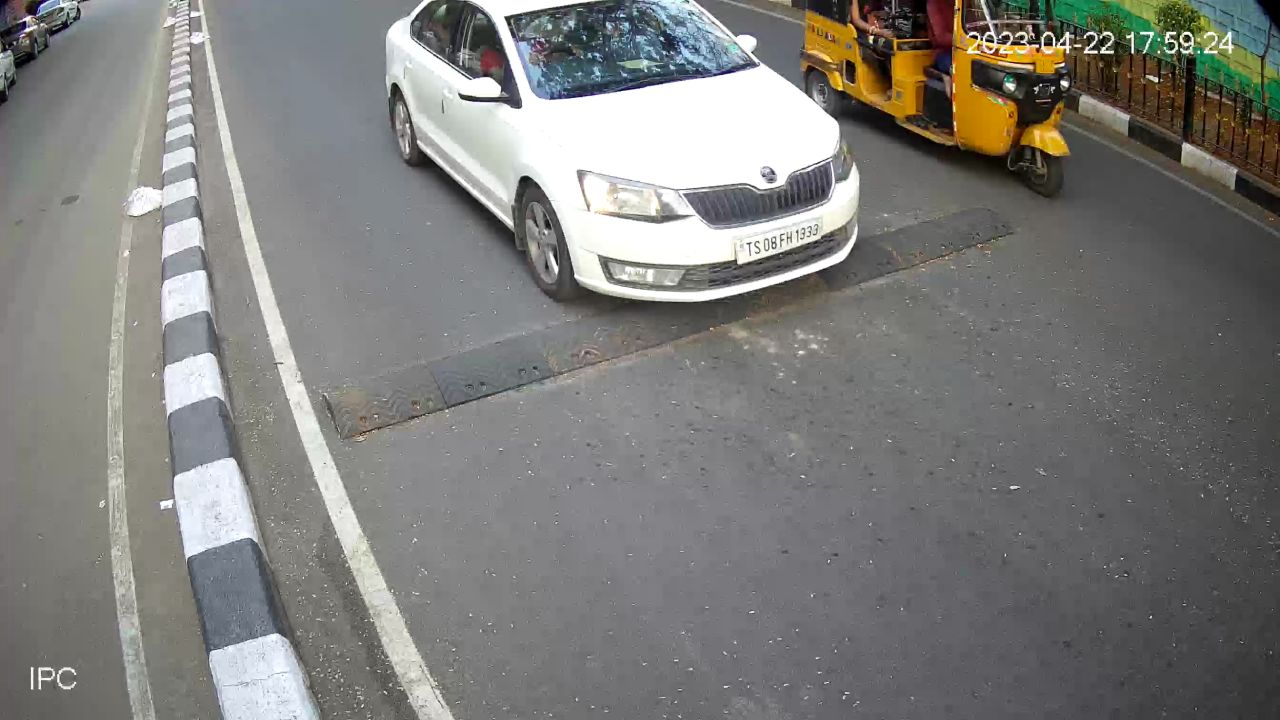license_plate: (725, 210, 828, 272)
